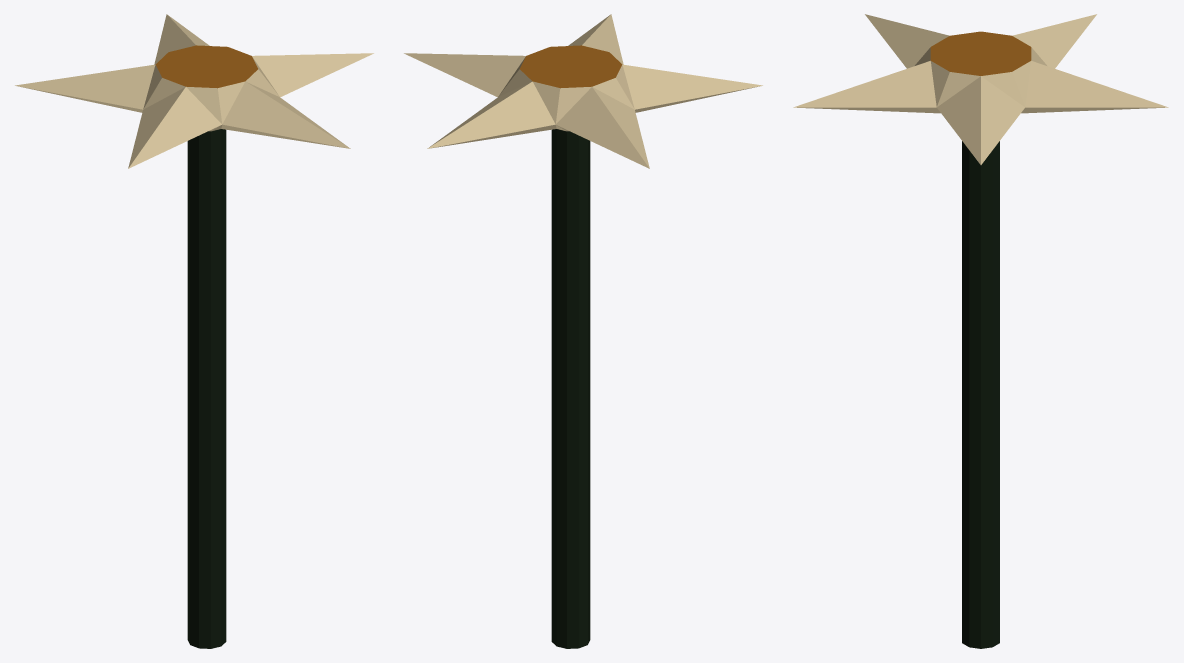
Rendered from Flower_Daisy_Single_01.fbx.
3 renders of one model, left to right at view 1: azimuth 30°, elevation 25°; view 2: azimuth 150°, elevation 25°; view 3: azimuth 270°, elevation 25°, orthographic. The views are drawn at different scales.
Parts seen in each view (by area): view 1: Flower_Daisy_Single_01_Mesh; view 2: Flower_Daisy_Single_01_Mesh; view 3: Flower_Daisy_Single_01_Mesh.
Part boxes in pixels (x1,y1,x2,y2): Flower_Daisy_Single_01_Mesh: [15, 14, 373, 648]; Flower_Daisy_Single_01_Mesh: [404, 14, 762, 648]; Flower_Daisy_Single_01_Mesh: [793, 14, 1168, 648].
Size of the model in its own units: 0.1628 by 0.294 by 0.1712.
1 material, 1 textured.
